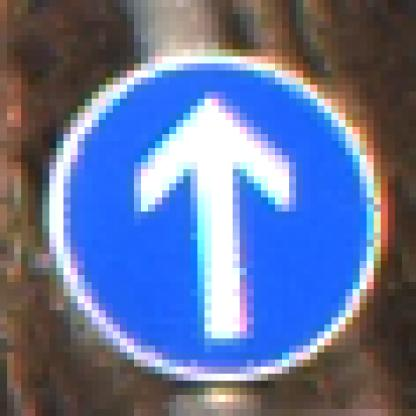AheadOnly: (43, 43, 382, 375)
